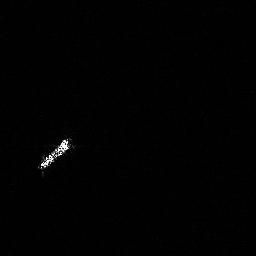ship: (35, 136, 74, 171)
